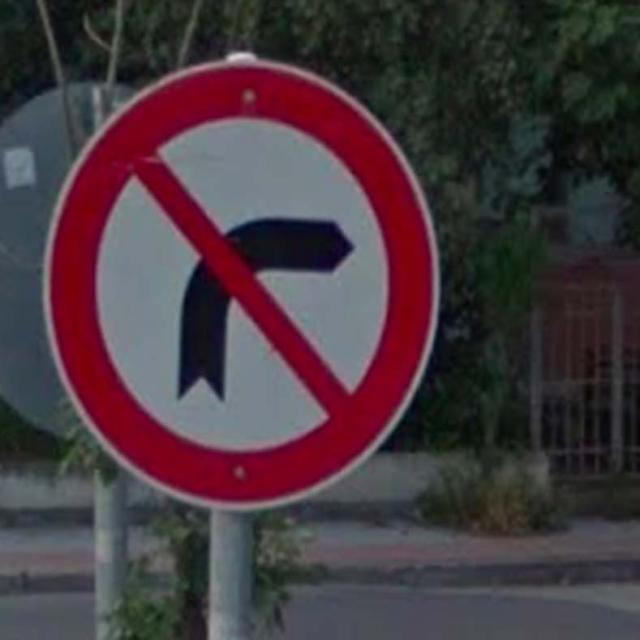sagadonulmez: (44, 58, 438, 510)
